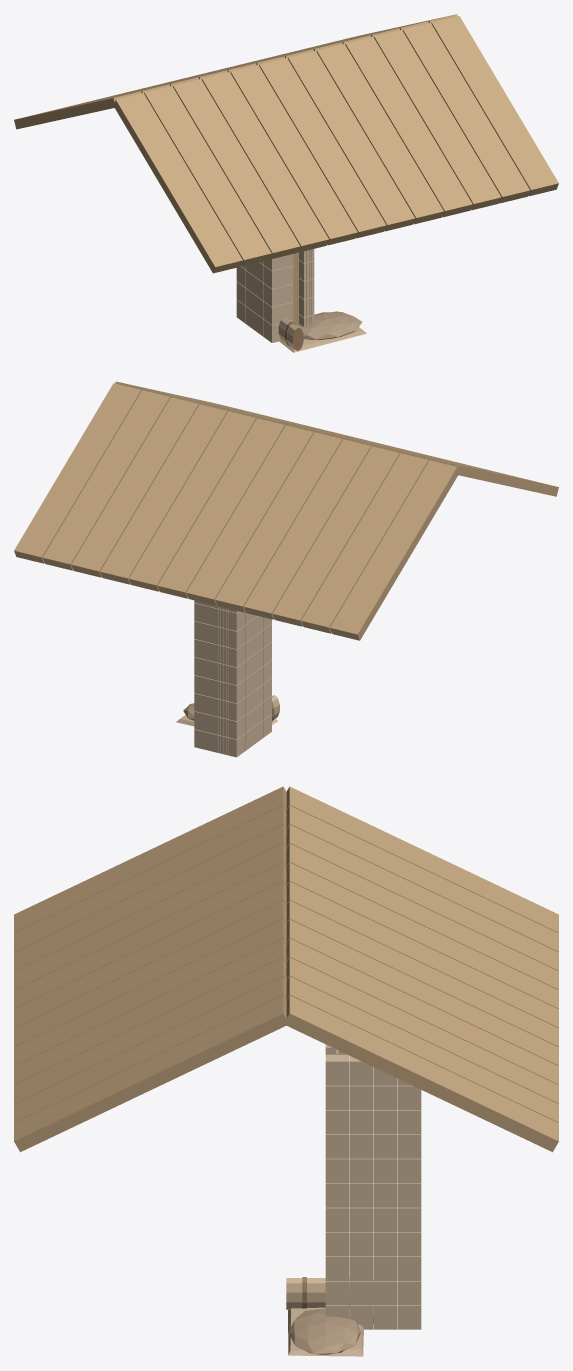
Rendered from building_mud_brick_house_complete.glb.
The picture shows the model from 3 angles, top to bottom: view 1: azimuth 30°, elevation 25°; view 2: azimuth 150°, elevation 25°; view 3: azimuth 270°, elevation 25°; orthographic projection. The views are drawn at different scales.
Visible parts, largest first — view 1: building_mud_brick_house_complete; view 2: building_mud_brick_house_complete; view 3: building_mud_brick_house_complete.
Part boxes in pixels (x1,y1,x2,y2): building_mud_brick_house_complete: [14, 14, 558, 352]; building_mud_brick_house_complete: [14, 381, 558, 757]; building_mud_brick_house_complete: [14, 786, 558, 1356].
Bounding box in the file's own units: 3.99 × 3.34 × 4.05.
